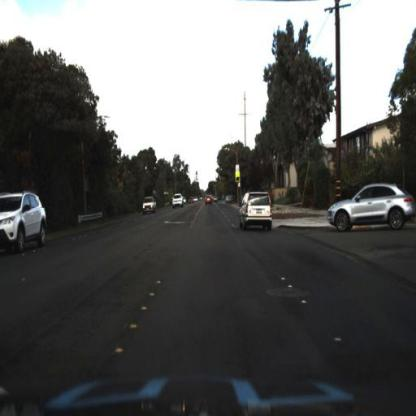car: (328, 180, 416, 233), (1, 190, 50, 254), (239, 187, 275, 234), (142, 194, 158, 216), (142, 196, 158, 216), (171, 191, 184, 210), (170, 192, 182, 209), (204, 190, 214, 204)
